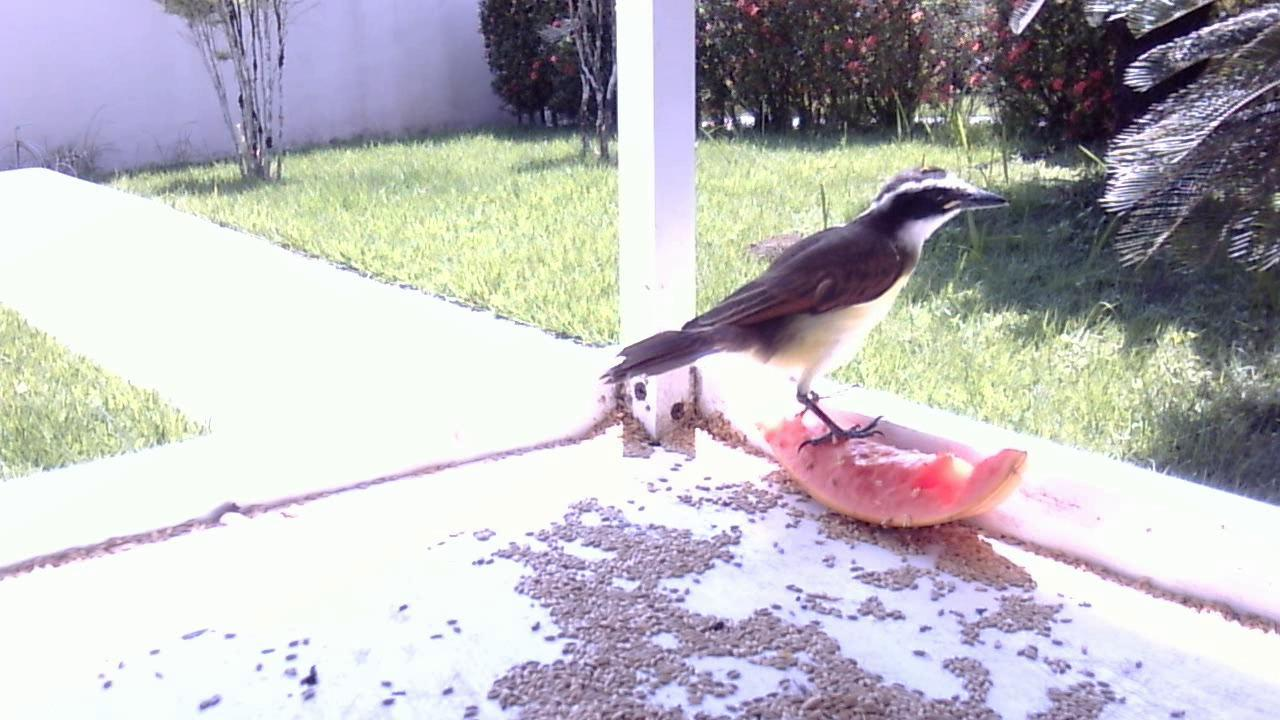bem_te_vi: (588, 164, 1017, 485)
